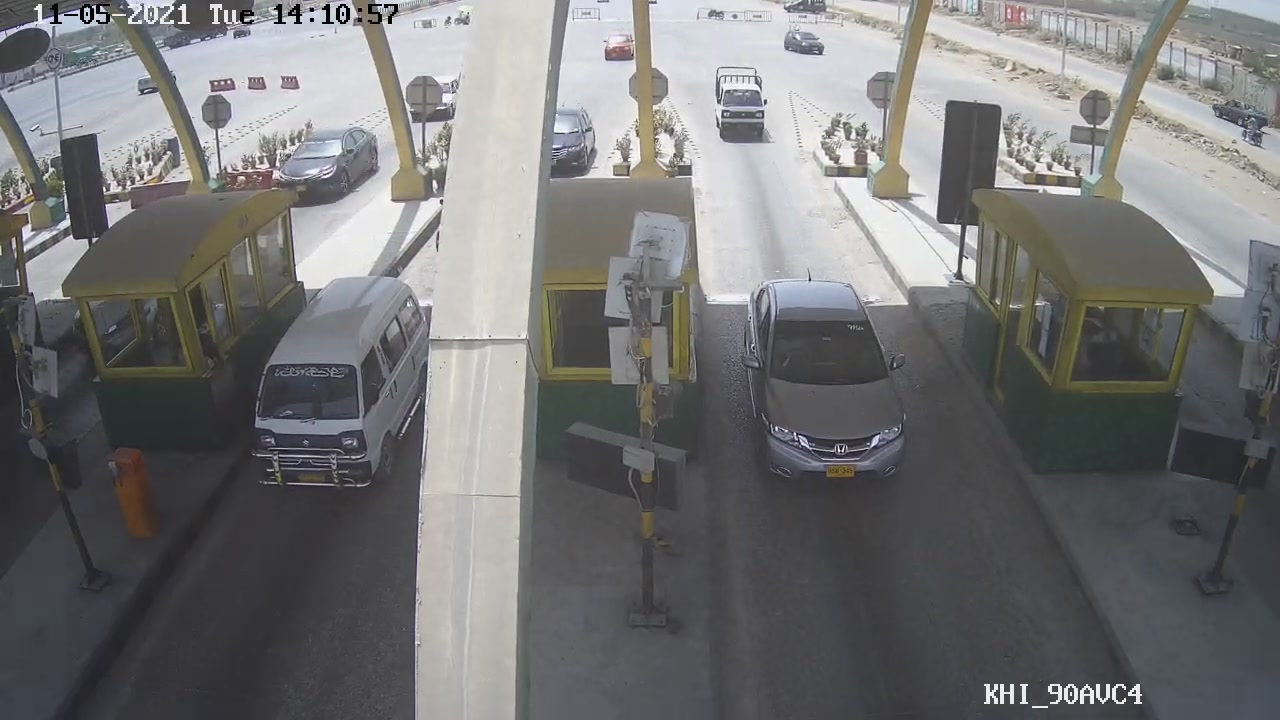F1: (740, 268, 904, 492)
